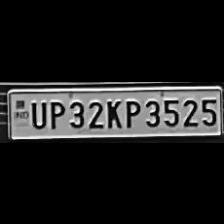2: (84, 97, 104, 129), (179, 96, 197, 127)
3: (65, 98, 84, 128), (142, 96, 160, 127)
5: (198, 95, 216, 127), (161, 96, 179, 126)
K: (104, 96, 122, 128)
P: (120, 96, 140, 128), (46, 97, 64, 128)
U: (28, 98, 46, 128)
